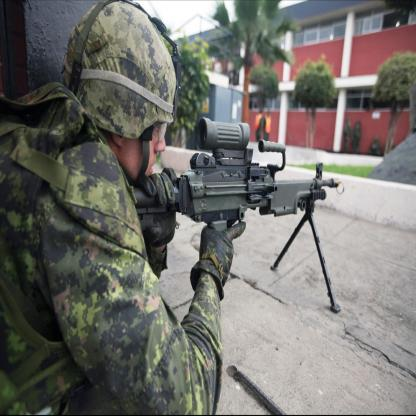rifle: (123, 124, 343, 240)
